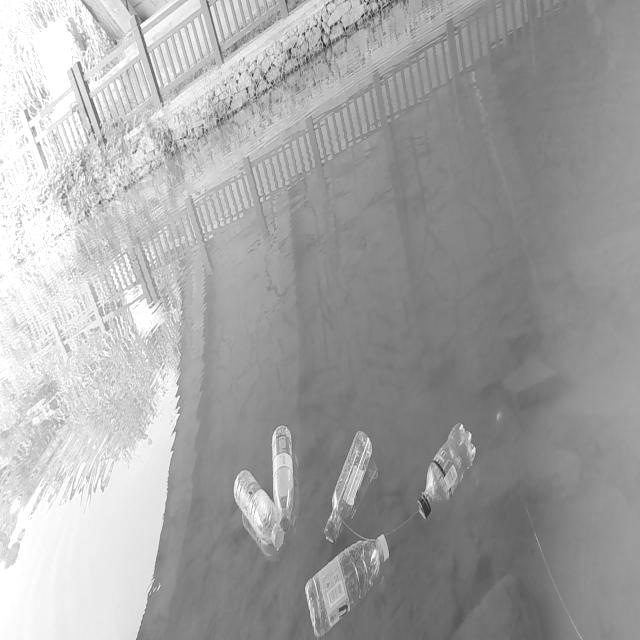bottle: (400, 398, 488, 522), (308, 410, 386, 542), (301, 533, 393, 640), (231, 469, 286, 557), (267, 415, 300, 530)
